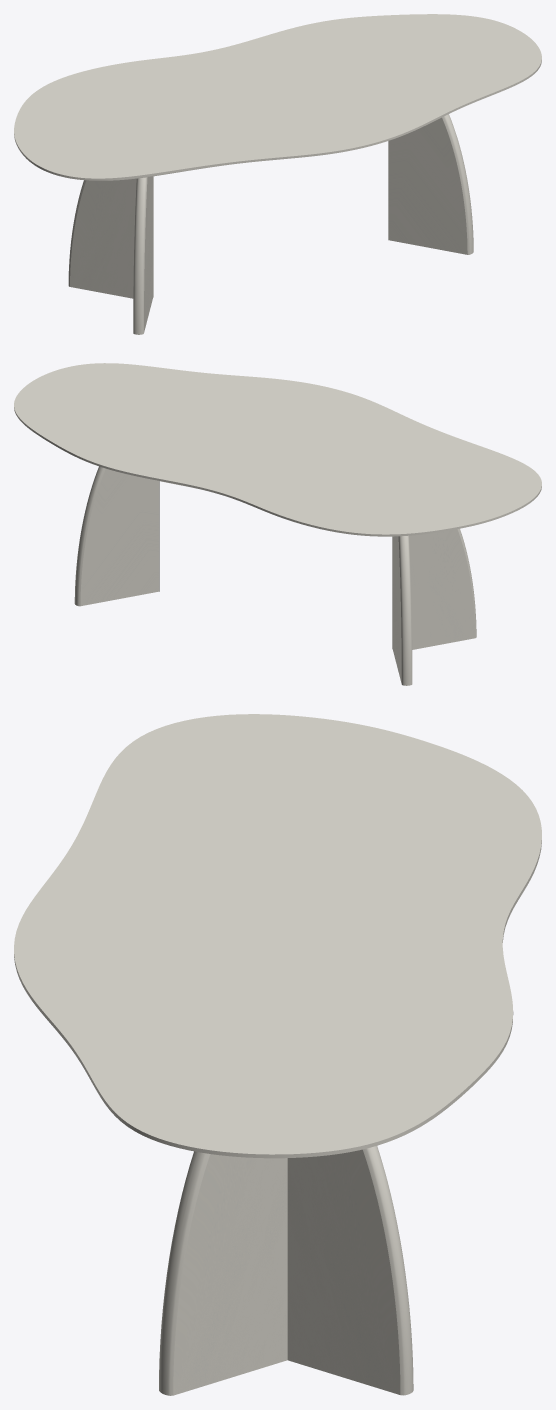
Rendered from pale_toplast_facet_newtable2.glb.
3 views of the same model, one above another, from view 1: azimuth 30°, elevation 25°; view 2: azimuth 150°, elevation 25°; view 3: azimuth 270°, elevation 25° (orthographic). The views are drawn at different scales.
Visible parts, largest first — view 1: facet_toplast, newtable2_singleright2, newtable2_singleleft1, newtable2_singleright1; view 2: facet_toplast, newtable2_singleleft2, newtable2_singleright1, newtable2_singleleft1; view 3: facet_toplast, newtable2_singleright2, newtable2_singleleft2.
Boxes of the visible parts, bbox=[...] form: facet_toplast: bbox=[14, 14, 541, 180]; newtable2_singleright2: bbox=[388, 114, 473, 254]; newtable2_singleleft1: bbox=[68, 176, 153, 298]; newtable2_singleright1: bbox=[133, 176, 153, 334]; facet_toplast: bbox=[14, 363, 541, 536]; newtable2_singleleft2: bbox=[74, 466, 158, 606]; newtable2_singleright1: bbox=[392, 528, 476, 649]; newtable2_singleleft1: bbox=[392, 535, 412, 685]; facet_toplast: bbox=[14, 714, 541, 1158]; newtable2_singleright2: bbox=[159, 1151, 287, 1395]; newtable2_singleleft2: bbox=[287, 1146, 413, 1395].
Bounding box in the file's own units: 7.5 × 2.49 × 3.8.
Materials: 1 (1 with a texture image).
